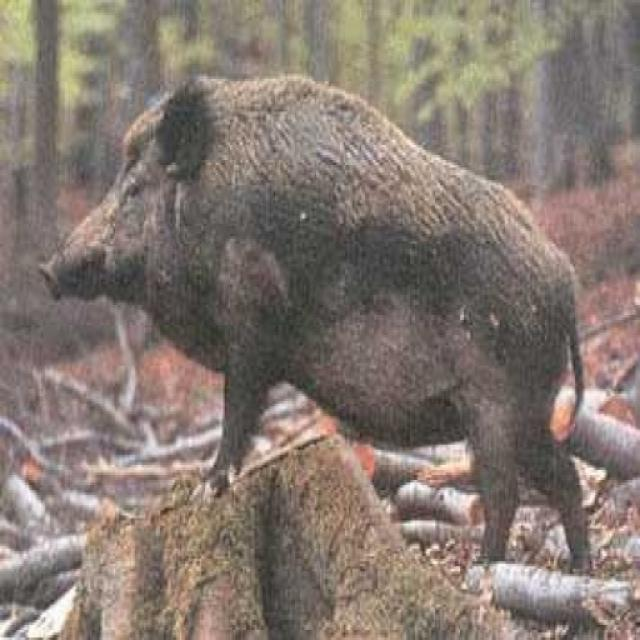pig: (90, 62, 640, 498)
